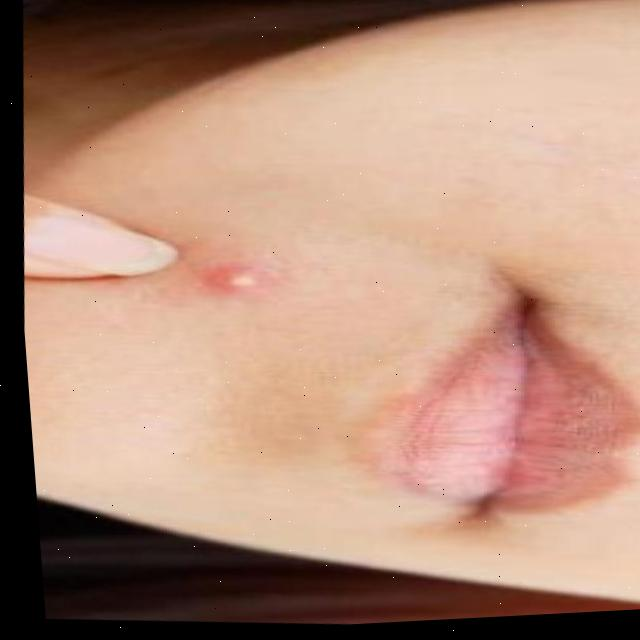Acne: (215, 245, 259, 313)
